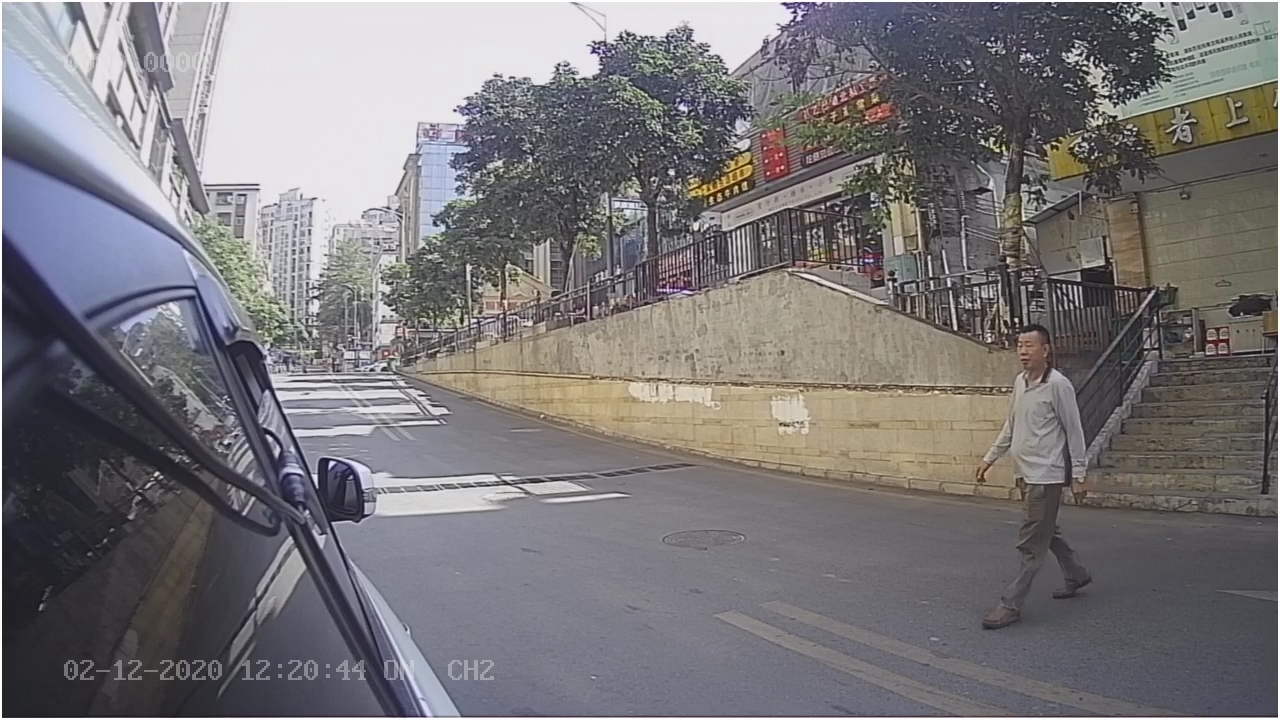person: (971, 312, 1095, 634)
